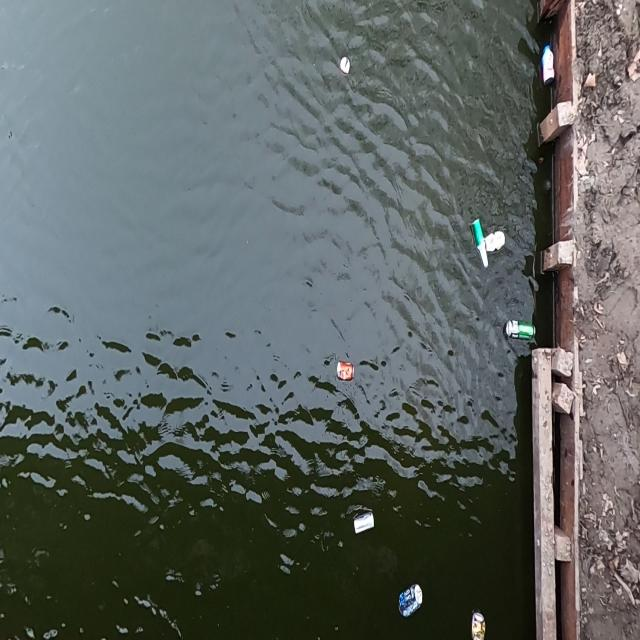Bouteille plastique: (540, 45, 558, 90)
Non plastique: (394, 578, 430, 631), (470, 216, 491, 278), (502, 318, 540, 349), (330, 353, 360, 389), (351, 509, 378, 544), (465, 609, 489, 640), (484, 234, 510, 255)
